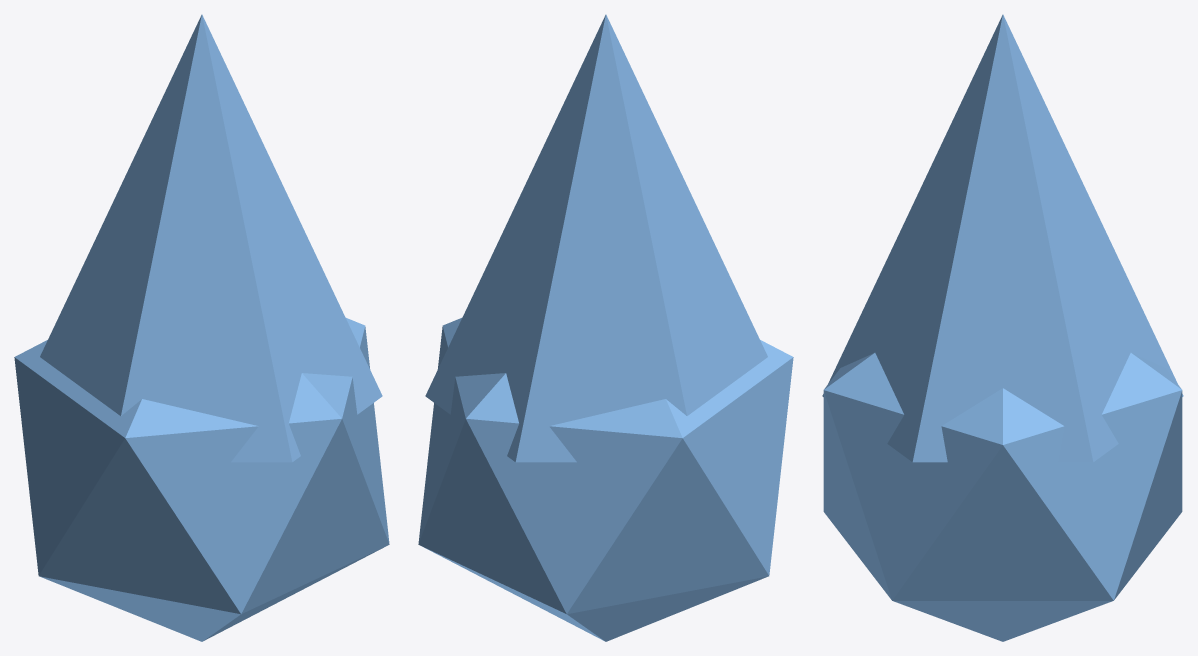
The model's file is vfx_droplet.glb.
3 renders of one model, left to right at view 1: azimuth 30°, elevation 25°; view 2: azimuth 150°, elevation 25°; view 3: azimuth 270°, elevation 25°, orthographic.
Visible parts, largest first — view 1: vfx_droplet; view 2: vfx_droplet; view 3: vfx_droplet.
Boxes of the visible parts, x1=… form: vfx_droplet: x1=14, y1=14, x2=389, y2=641; vfx_droplet: x1=418, y1=14, x2=793, y2=641; vfx_droplet: x1=822, y1=14, x2=1183, y2=641.
Bounding box in the file's own units: 0.0626 × 0.115 × 0.06.
